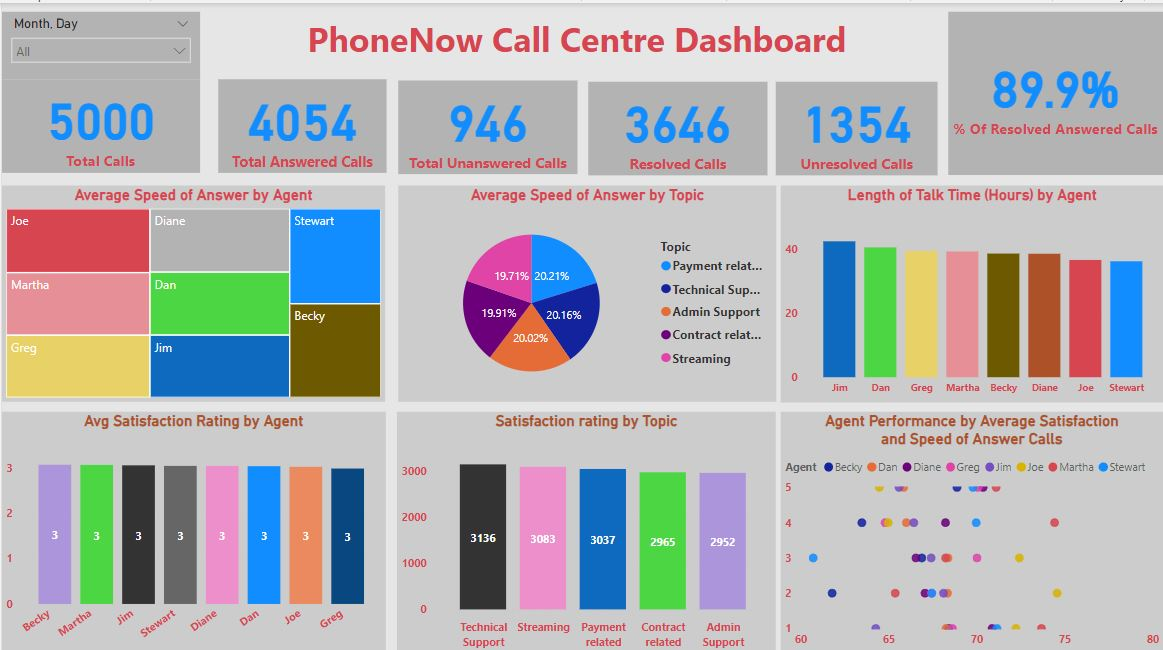

What the dashboard file says about the page in this screenshot:
{"tool":"powerbi","page":{"name":"Page 1","canvas":[1280,720],"ordinal":0},"visuals":[{"type":"textbox","box":[207.1,9.5,854.5,75],"z":0},{"type":"card","fields":{"Values":["Sheet1.Answered (Y/N)"]},"box":[238,84.5,185.7,103.5],"z":1000},{"type":"card","fields":{"Values":["Sheet1.Unanswered Calls"]},"box":[436.4,85.1,197.6,102.9],"z":2000},{"type":"card","fields":{"Values":["Sheet1.Total Calls"]},"box":[0,83.7,218.2,102.9],"z":3000},{"type":"card","fields":{"Values":["Sheet1.Resolved"]},"box":[646.3,86.4,197.6,102.9],"z":4000},{"type":"card","fields":{"Values":["Sheet1.Resolved"]},"box":[853.5,86.4,178.4,102.9],"z":5000},{"type":"slicer","fields":{"Values":["Sheet1.Date.Variation.Date Hierarchy.Month","Sheet1.Date.Variation.Date Hierarchy.Day"]},"box":[0,9.6,218.2,74.1],"z":6000},{"type":"card","fields":{"Values":["Sheet1.% of Answered Calls Resolved"]},"box":[1042.9,9.6,237.4,179.8],"z":7000},{"type":"treemap","fields":{"Group":["Sheet1.Agent"],"Values":["Sheet1.Average Speed of Answer"]},"box":[0,201.7,422.6,238.8],"z":8000},{"type":"pieChart","fields":{"Category":["Sheet1.Topic"],"Y":["Sheet1.Average Speed of Answer"]},"box":[436.4,201.7,417.2,238.8],"z":9000},{"type":"clusteredColumnChart","title":"Length of Talk Time (Hours) by Agent","fields":{"Y":["Sheet1.Total Talk Time (Hours)"],"Category":["Sheet1.Agent"]},"box":[858,201.1,422.5,239.2],"z":10000},{"type":"clusteredColumnChart","fields":{"Category":["Sheet1.Agent"],"Y":["Sheet1.Avg Satisfaction Rating"]},"box":[0,450.6,423.1,268.7],"z":11000},{"type":"clusteredColumnChart","title":"Satisfaction rating by Topic","fields":{"Y":["Sheet1.Satisfaction rating"],"Category":["Sheet1.Topic"]},"box":[435.5,450.6,417.6,268.7],"z":11001},{"type":"scatterChart","title":"Agent Performance by Average Satisfaction and Speed of Answer Calls","fields":{"Category":["Sheet1.Agent Performance"],"Series":["Sheet1.Agent"],"X":["Sheet1.Average Speed of Answer"],"Y":["Sheet1.Avg Satisfaction Rating"]},"box":[858.6,450.6,421.7,268.7],"z":11002}]}

Visuals, with their boxes on the page's 1280x720 design canvas (x1, y1, x2, y2). These are canvas units, not pixel positions in the 1163x650 screenshot, which may show the page scaled, cropped or inside an application window:
textbox: 207 10 1062 84
card - Sheet1.Answered (Y/N): 238 84 424 188
card - Sheet1.Unanswered Calls: 436 85 634 188
card - Sheet1.Total Calls: 0 84 218 187
card - Sheet1.Resolved: 646 86 844 189
card - Sheet1.Resolved: 854 86 1032 189
slicer - Sheet1.Date.Variation.Date Hierarchy.Month x Sheet1.Date.Variation.Date Hierarchy.Day: 0 10 218 84
card - Sheet1.% of Answered Calls Resolved: 1043 10 1280 189
treemap - Sheet1.Agent x Sheet1.Average Speed of Answer: 0 202 423 440
pieChart - Sheet1.Topic x Sheet1.Average Speed of Answer: 436 202 854 440
"Length of Talk Time (Hours) by Agent" clusteredColumnChart: 858 201 1280 440
clusteredColumnChart - Sheet1.Agent x Sheet1.Avg Satisfaction Rating: 0 451 423 719
"Satisfaction rating by Topic" clusteredColumnChart: 436 451 853 719
"Agent Performance by Average Satisfaction and Speed of Answer Calls" scatterChart: 859 451 1280 719
